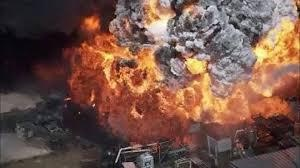fire: (69, 2, 282, 144)
